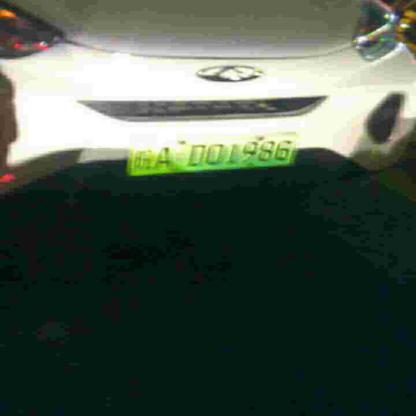lp: (130, 134, 296, 174)
